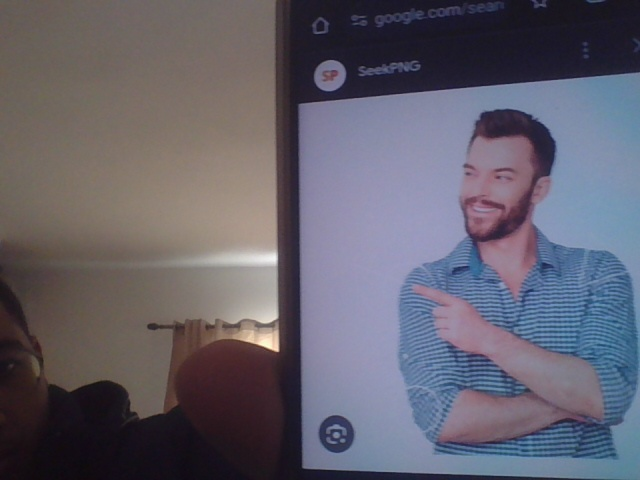fake: (442, 85, 556, 246)
